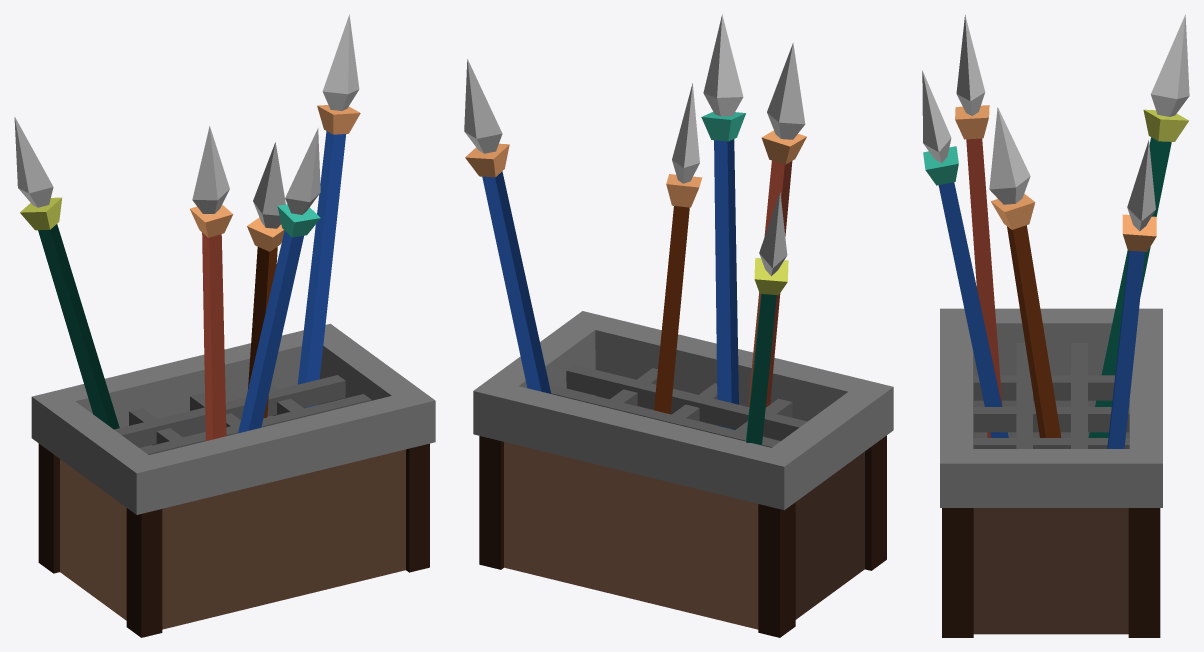
Rendered from Weapon Box 01.FBX.
3 renders of one model, left to right at view 1: azimuth 30°, elevation 25°; view 2: azimuth 150°, elevation 25°; view 3: azimuth 270°, elevation 25°, orthographic. The views are drawn at different scales.
Parts seen in each view (by area): view 1: Weapon Box 01; view 2: Weapon Box 01; view 3: Weapon Box 01.
Boxes of the visible parts, x1,y1,x2,y2 form: Weapon Box 01: (14,14,435,637); Weapon Box 01: (464,14,893,637); Weapon Box 01: (922,14,1189,637).
Size of the model in its own units: 137 by 196 by 91.9.
